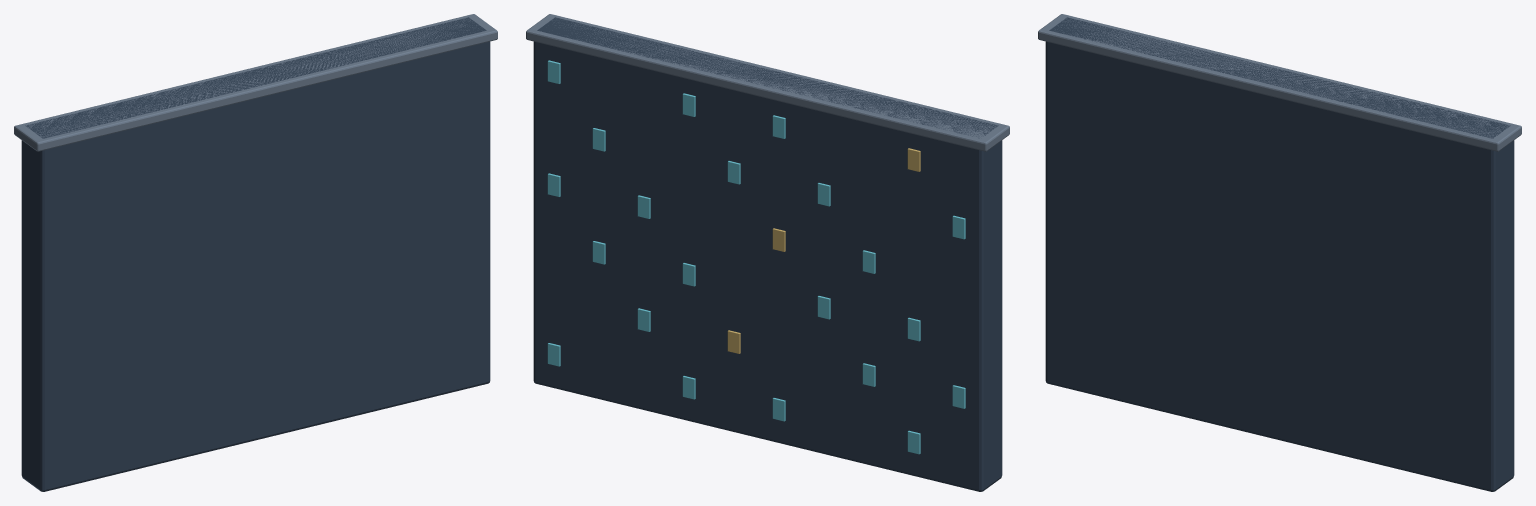
File: CityCard_C.fbx
3 renders of one model, left to right at view 1: azimuth 30°, elevation 25°; view 2: azimuth 150°, elevation 25°; view 3: azimuth 330°, elevation 25°, orthographic.
Parts seen in each view (by area): view 1: CityCard_C; view 2: CityCard_C; view 3: CityCard_C.
Part boxes in pixels (x1,y1,x2,y2): CityCard_C: (14,14,497,491); CityCard_C: (526,14,1009,491); CityCard_C: (1038,14,1521,491).
Size of the model in its own units: 12.3 by 9 by 1.12.
